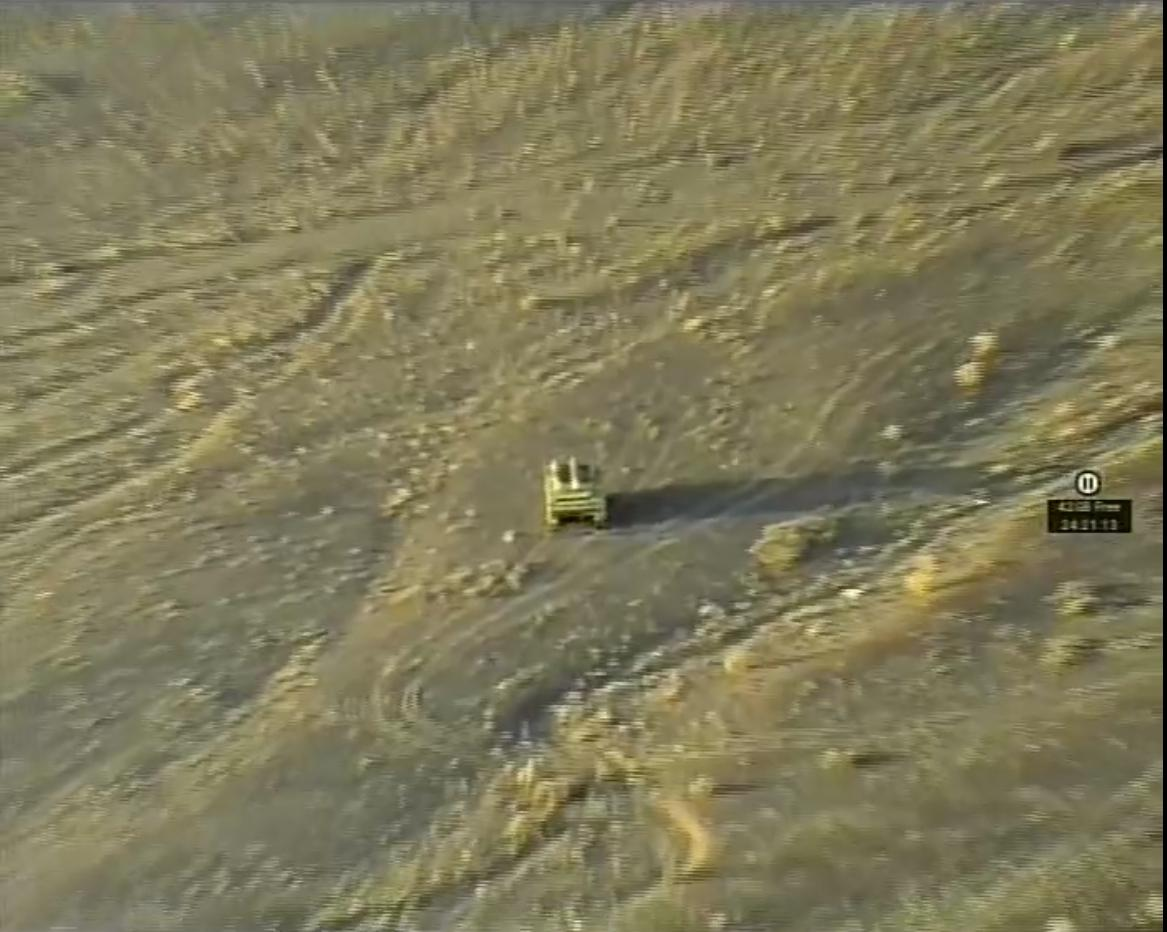armored_car: (538, 452, 612, 532)
